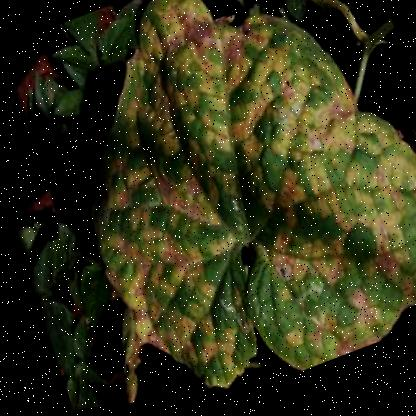DownyMildew: (64, 125, 260, 409), (208, 69, 415, 318), (135, 0, 309, 221), (228, 197, 393, 384)
